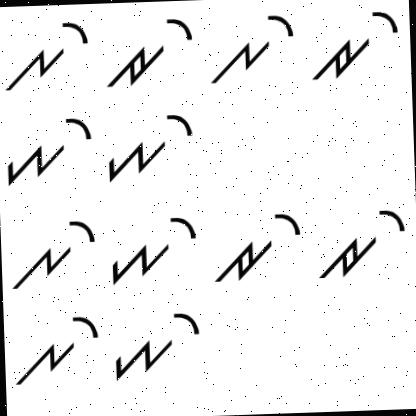lay: (11, 307, 106, 396), (6, 214, 99, 295), (2, 12, 90, 97), (209, 6, 300, 88)
ray: (207, 206, 306, 290), (314, 202, 410, 288), (102, 8, 200, 90), (308, 4, 402, 83)
yay: (109, 306, 204, 396), (99, 108, 199, 186), (0, 109, 96, 190), (104, 216, 200, 292)
